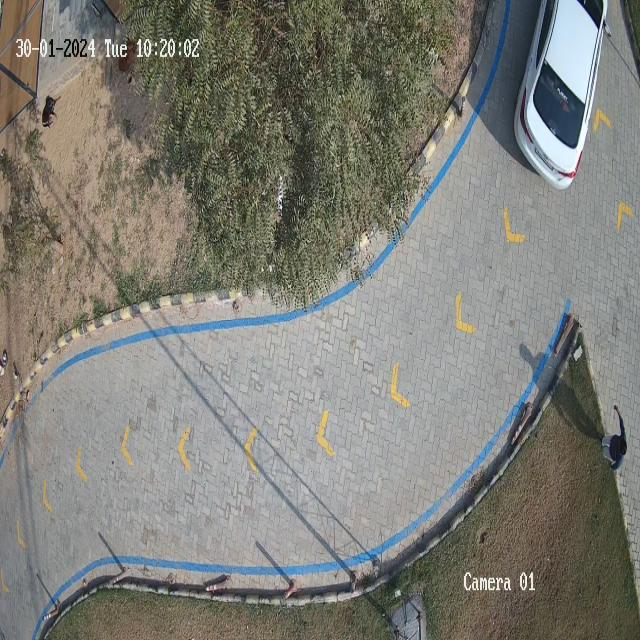car: (514, 0, 611, 189)
